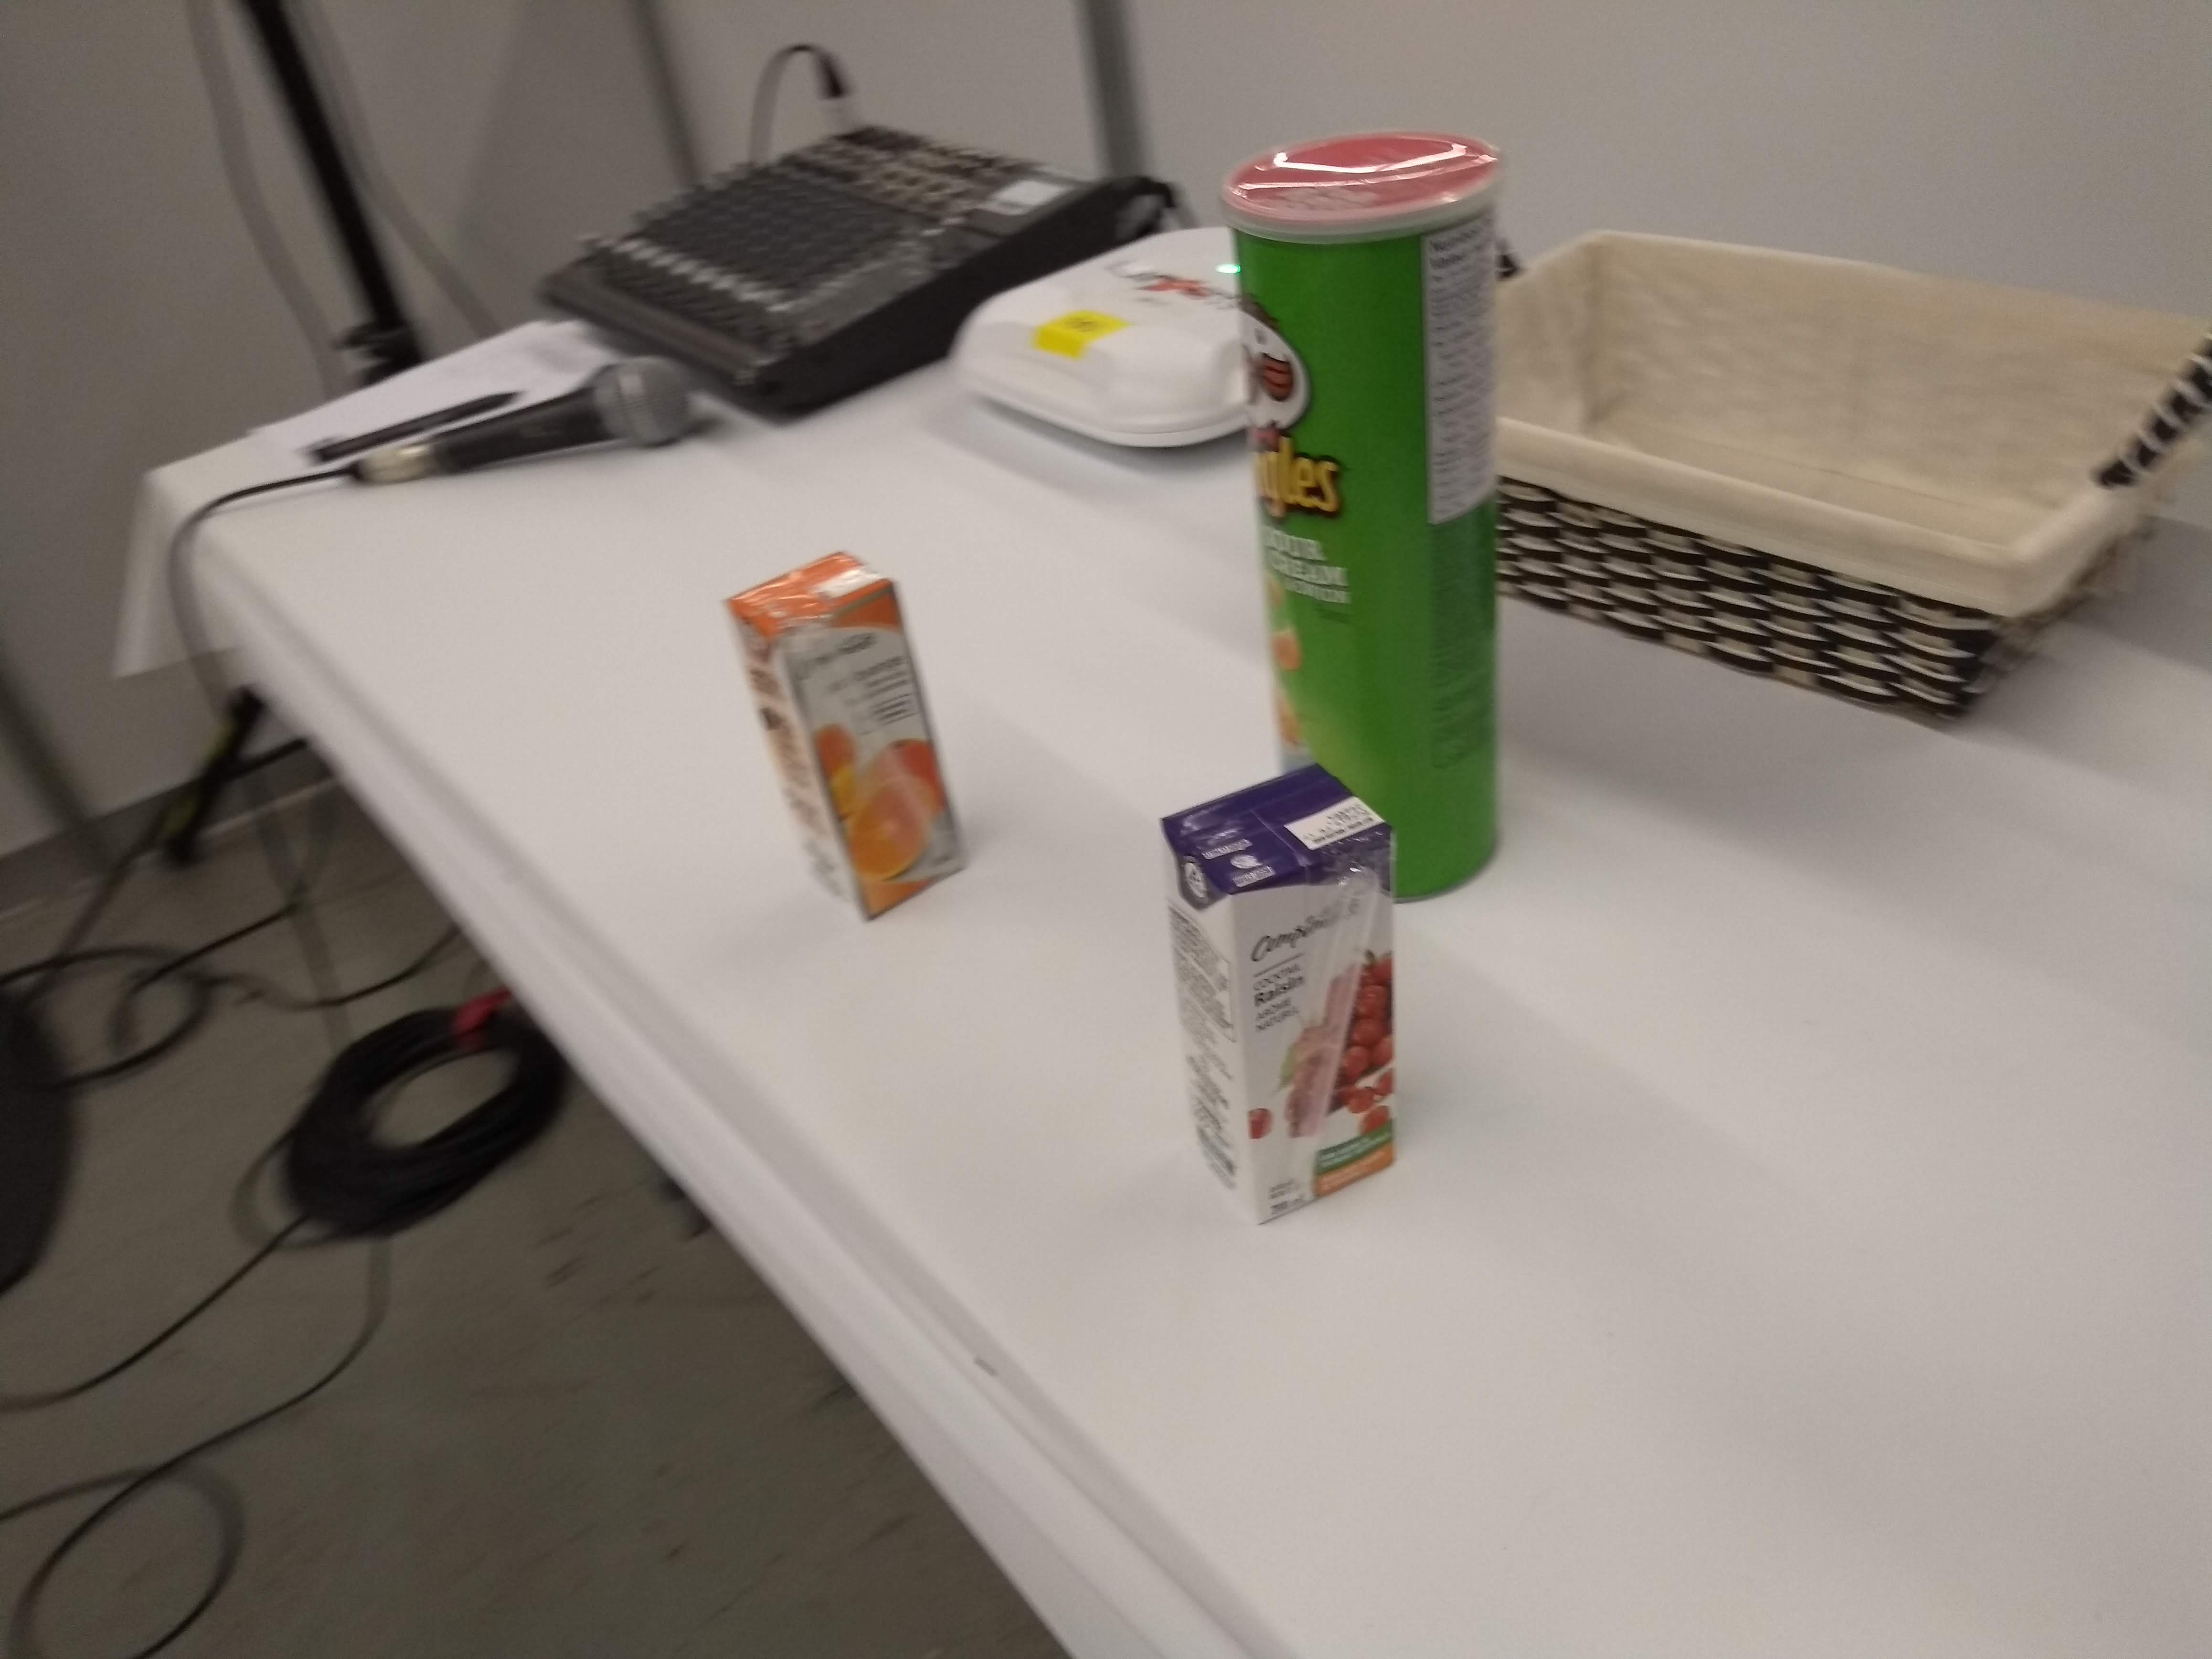grape_juice: (1150, 751, 1414, 1229)
orange_juice: (719, 544, 977, 934)
pringles: (1214, 117, 1515, 915)
